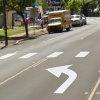Crosswalk: (2, 41, 94, 69)
